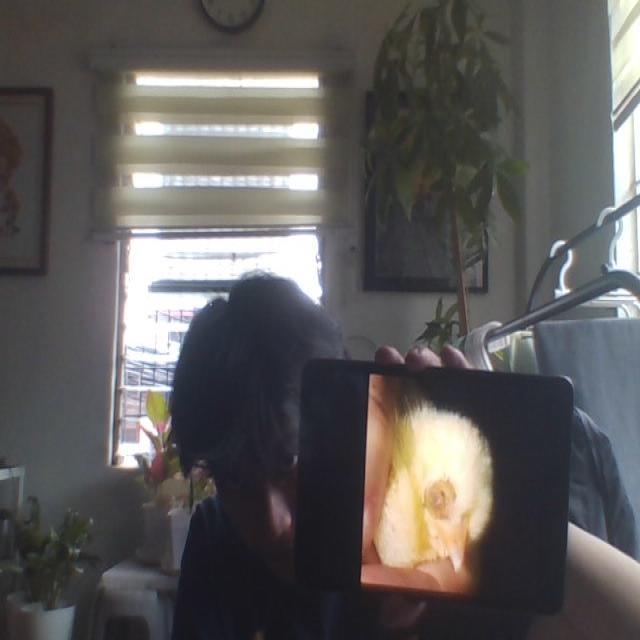Sick: (377, 405, 492, 572)
